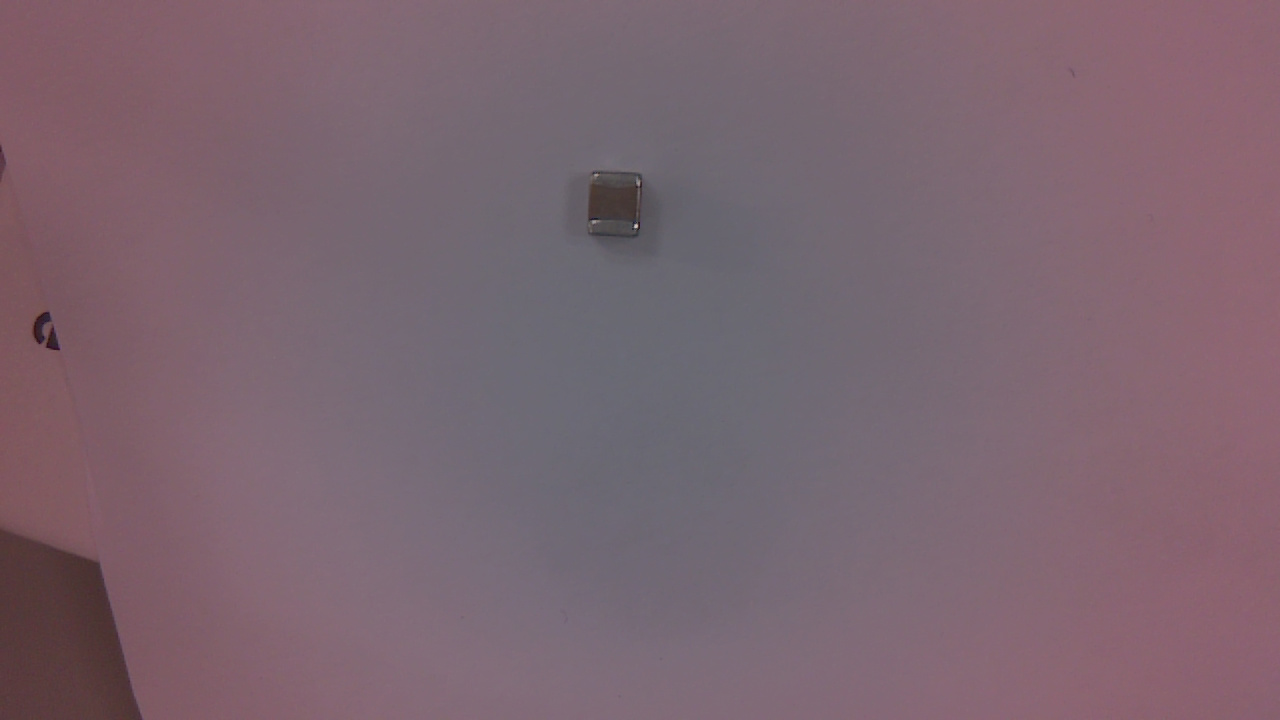Condensator: (590, 172, 649, 246)
